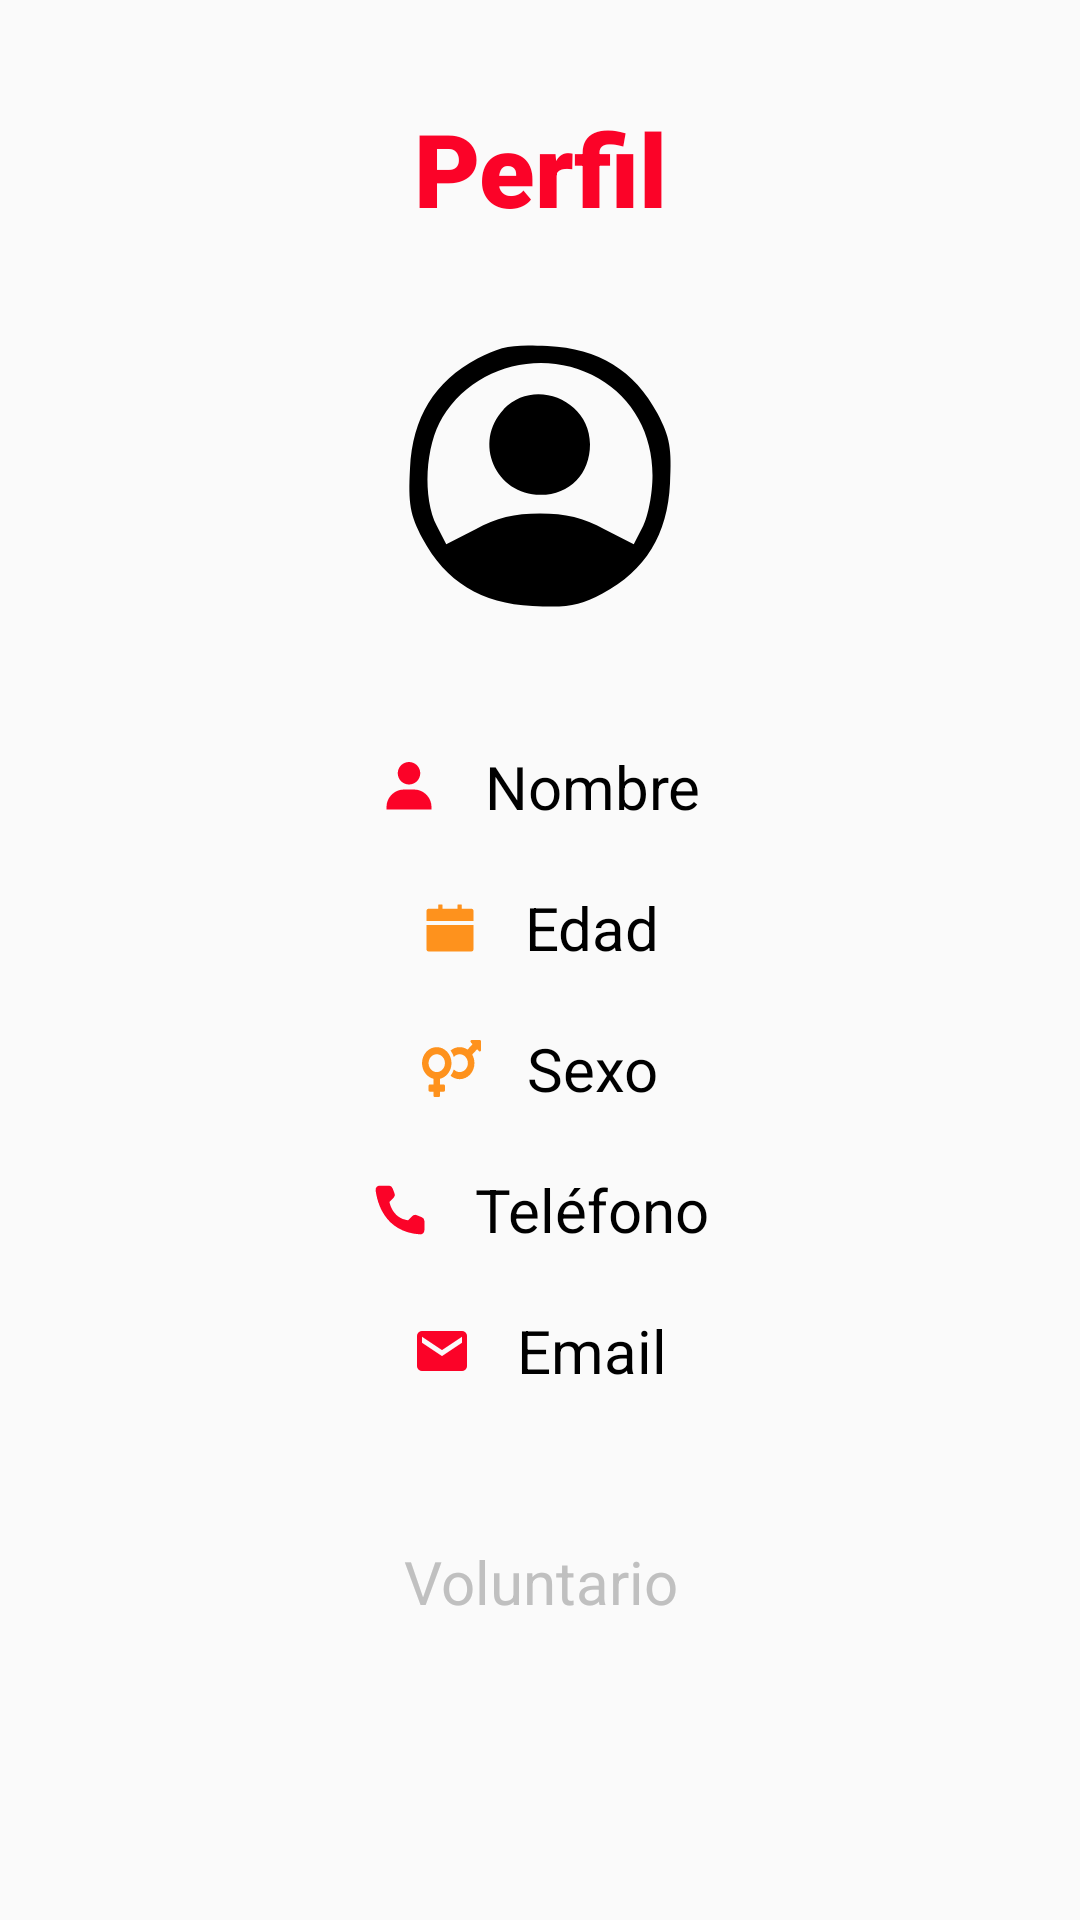

Locate icon controls on the screen. Image size 1080*1920, boxes as [x1,y1,x2,y2].
calendar: [426,904,474,952]
envelope: [417,1331,467,1371]
phone: [375,1185,425,1235]
profile: [409,345,671,607]
user: [386,762,432,810]
venus mars: [422,1040,481,1097]
